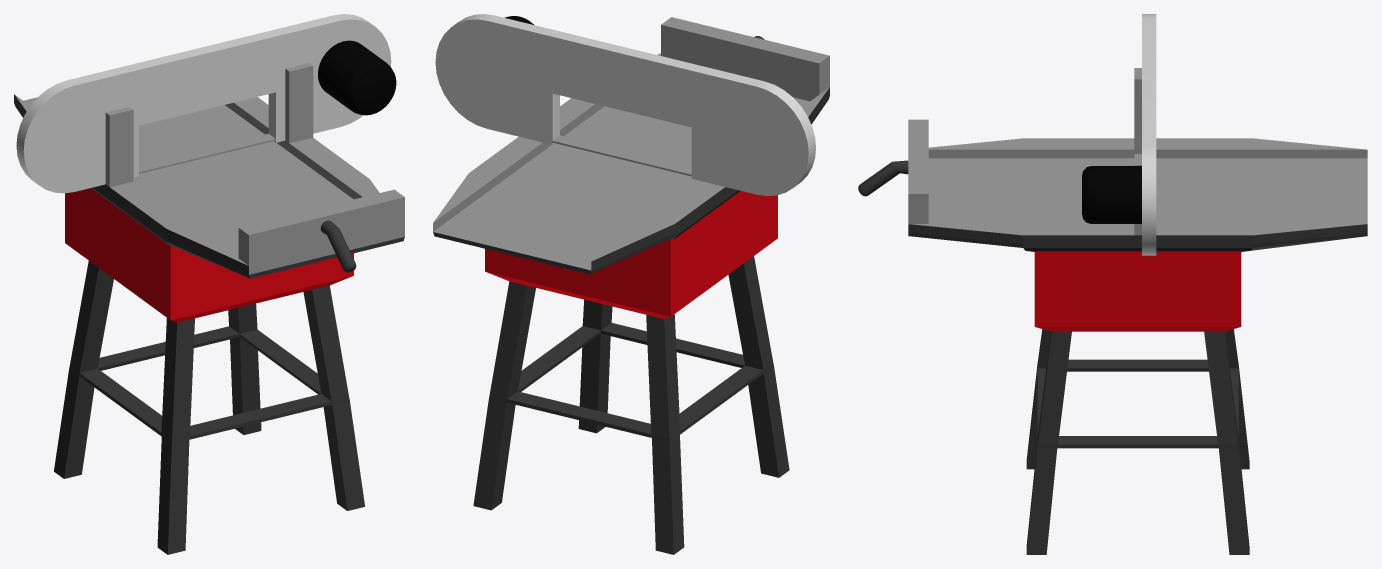
The model's file is Band Saw.fbx.
3 renders of one model, left to right at view 1: azimuth 30°, elevation 25°; view 2: azimuth 150°, elevation 25°; view 3: azimuth 270°, elevation 25°, orthographic. The views are drawn at different scales.
Visible parts, largest first — view 1: Band Saw Bench, Blade, Pusher; view 2: Band Saw Bench, Blade, Pusher; view 3: Band Saw Bench, Blade, Pusher.
Part boxes in pixels (x1,y1,x2,y2): Band Saw Bench: (14, 63, 404, 554); Blade: (16, 14, 396, 193); Pusher: (238, 189, 404, 274); Band Saw Bench: (433, 53, 829, 554); Blade: (435, 14, 815, 196); Pusher: (661, 17, 829, 101); Band Saw Bench: (908, 68, 1367, 554); Blade: (1082, 14, 1156, 255); Pusher: (858, 119, 928, 223).
Bounding box in the file's own units: 110 × 124 × 135.
